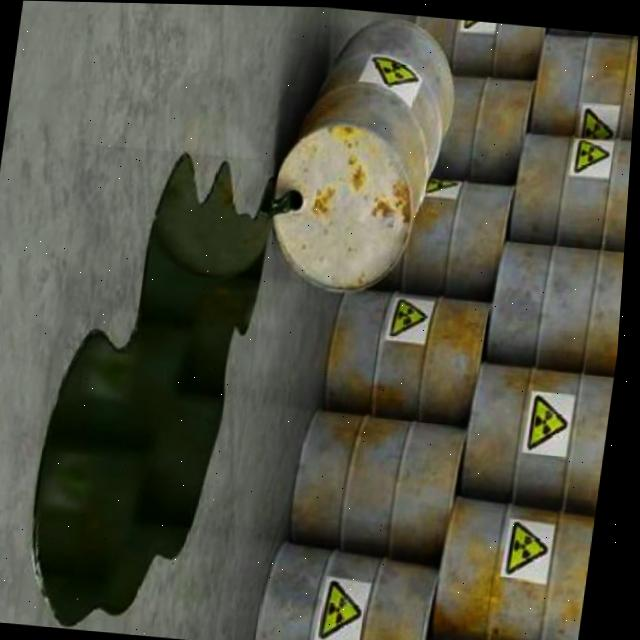spillage: (34, 151, 275, 626)
